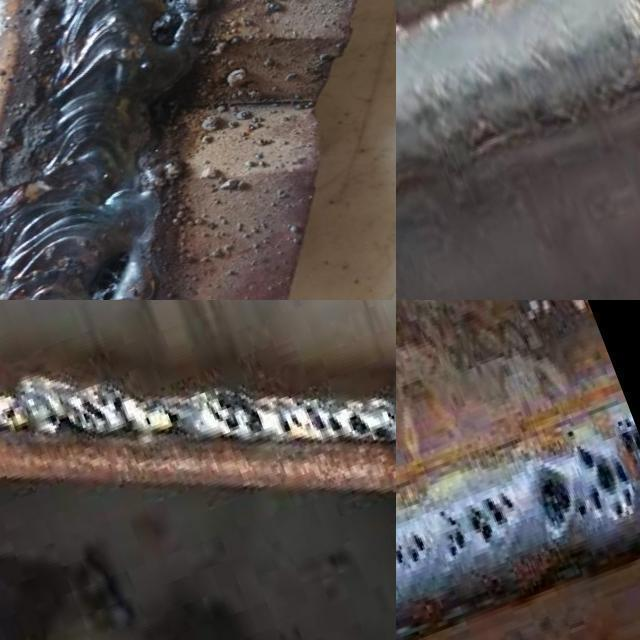defect: (436, 488, 521, 564), (575, 441, 637, 518), (534, 466, 591, 536), (207, 387, 267, 440), (83, 245, 137, 300), (64, 390, 129, 431), (277, 408, 345, 442), (147, 0, 193, 47), (615, 409, 640, 489), (343, 412, 394, 443), (396, 525, 429, 572), (38, 404, 62, 434), (158, 404, 183, 428), (4, 402, 19, 421), (144, 414, 154, 428)
